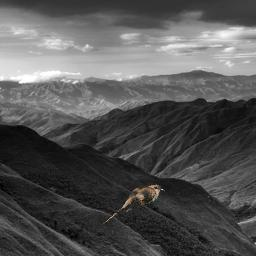Cuckoo: (103, 184, 165, 224)
